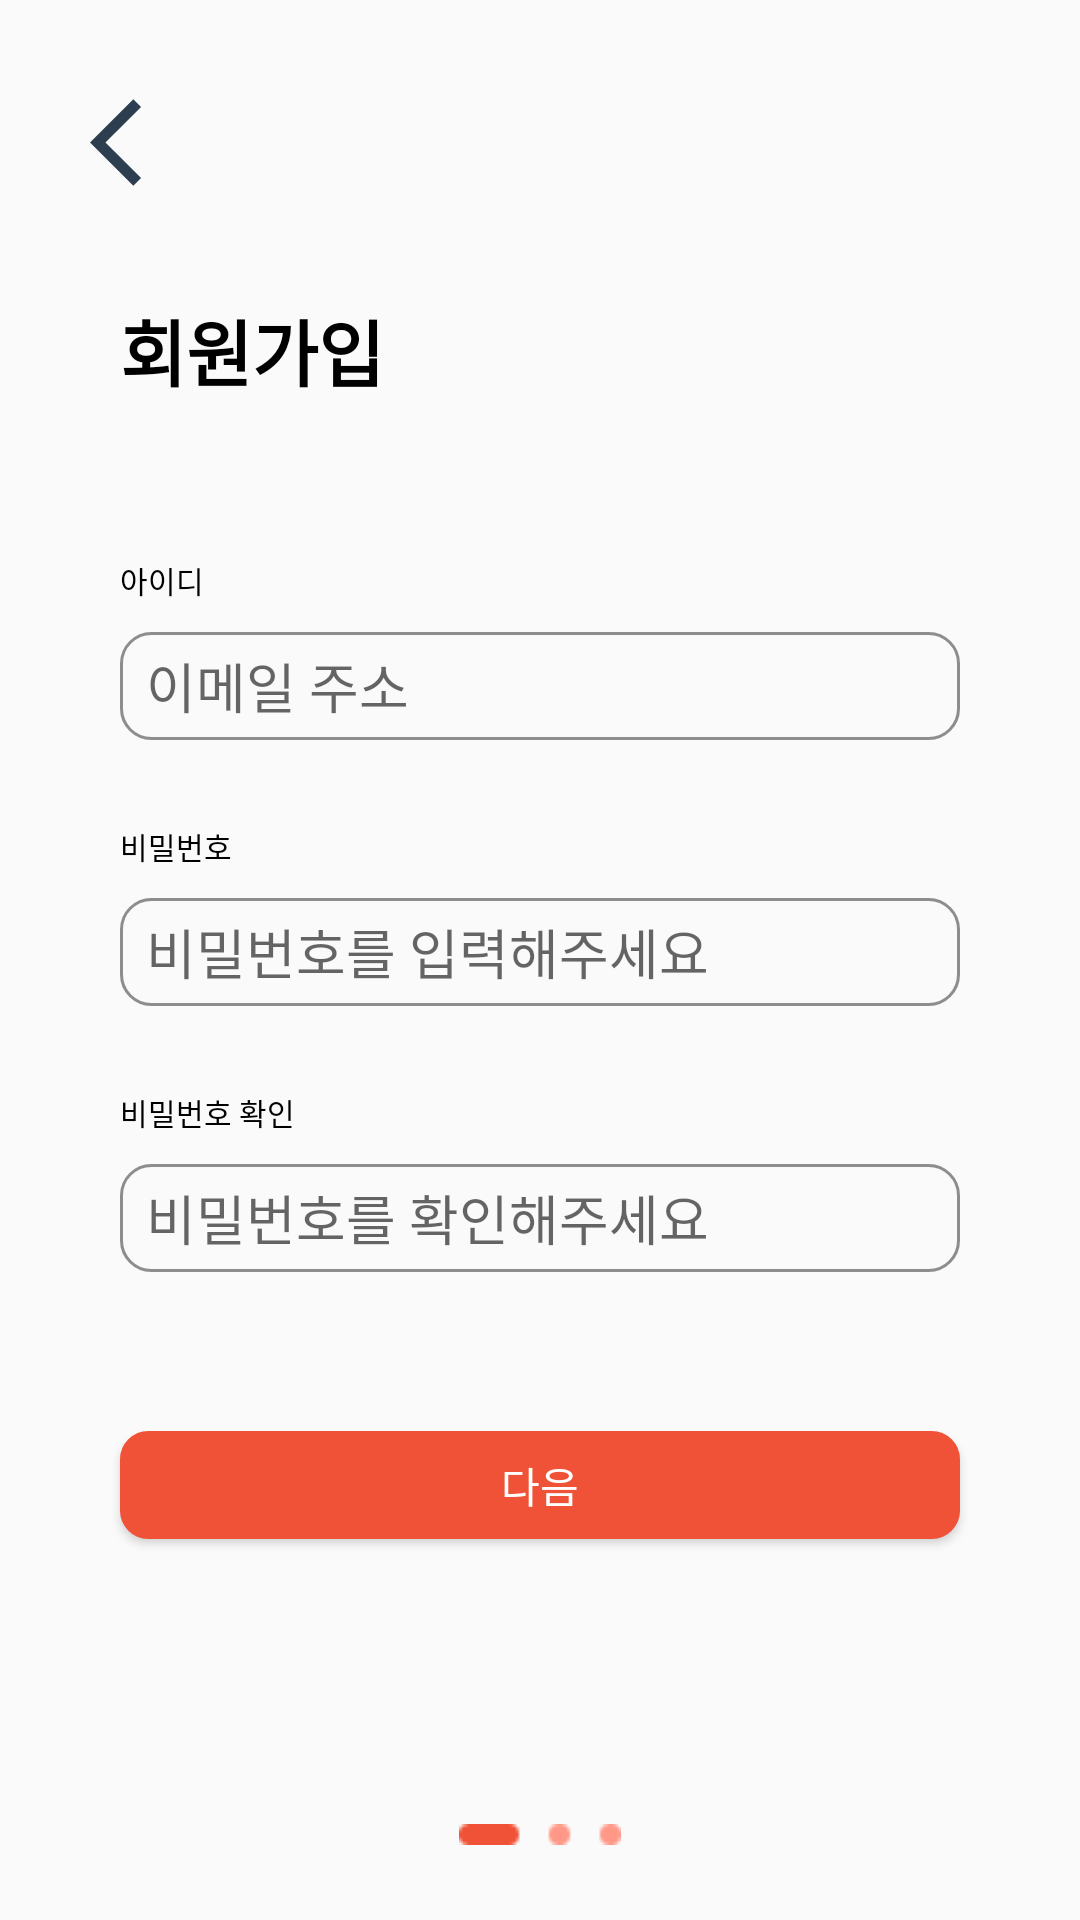

Icons on this 1080 × 1920 Android screen, each with the point to tap as [x,y]:
arrow back: [115,142]
